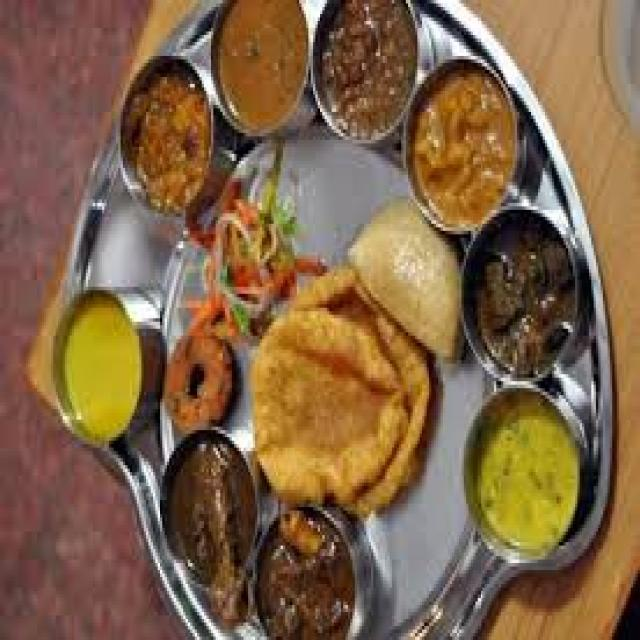dal: (468, 392, 589, 554), (59, 287, 158, 444), (207, 0, 311, 127)
papad: (347, 207, 475, 364)
raita: (83, 196, 162, 294)
roti: (248, 277, 447, 520)
sweet: (466, 216, 589, 379)
veg-fry: (464, 206, 584, 386), (156, 298, 250, 443)
